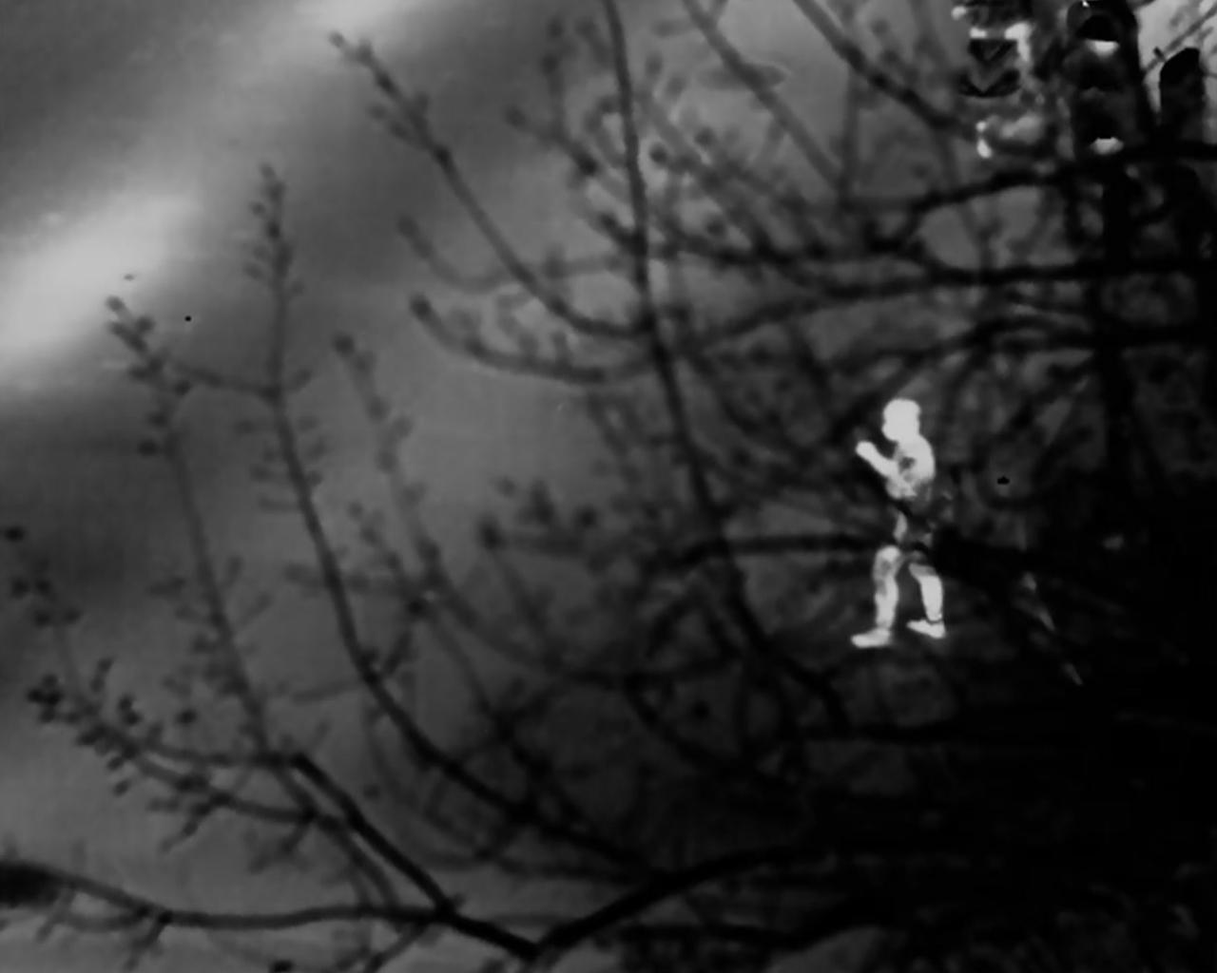person: (856, 392, 954, 662)
